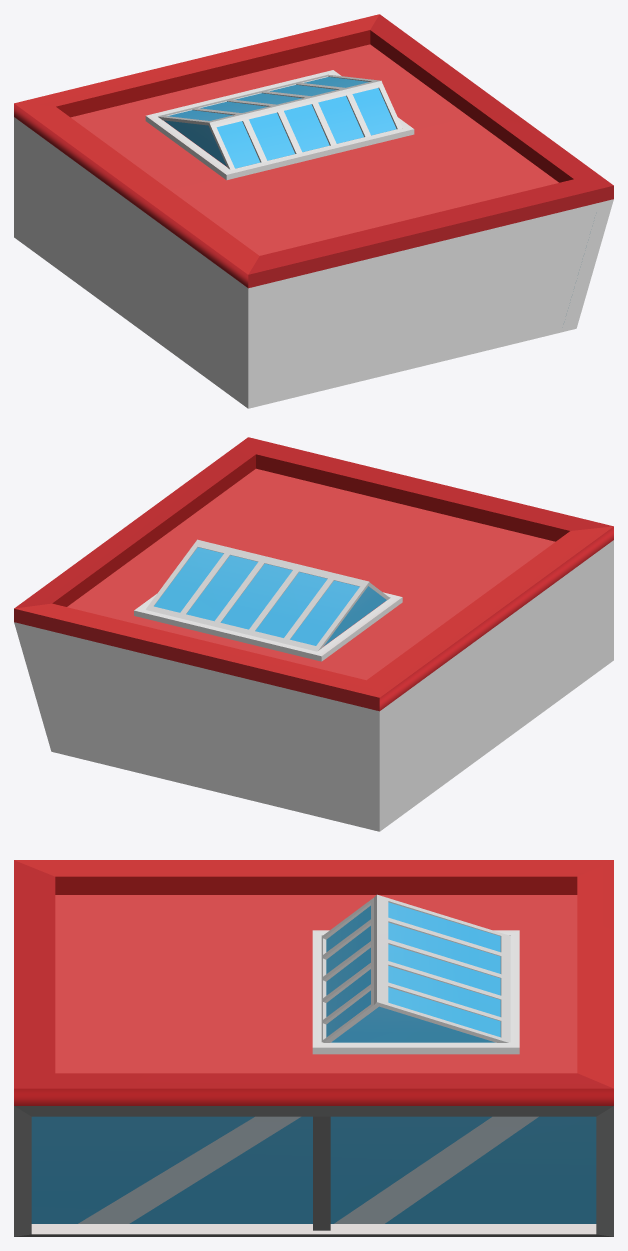
Rendered from Gragage_lv2_v2.FBX.
The picture shows the model from 3 angles, top to bottom: view 1: azimuth 30°, elevation 25°; view 2: azimuth 150°, elevation 25°; view 3: azimuth 270°, elevation 25°; orthographic projection. The views are drawn at different scales.
Visible parts, largest first — view 1: Lv2; view 2: Lv2; view 3: Lv2.
Part boxes in pixels (box(x1,y1,x2,y2)): Lv2: box(14, 14, 613, 408); Lv2: box(14, 437, 613, 831); Lv2: box(14, 860, 613, 1236).
Size of the model in its own units: 9.81 by 4.03 by 10.88.
